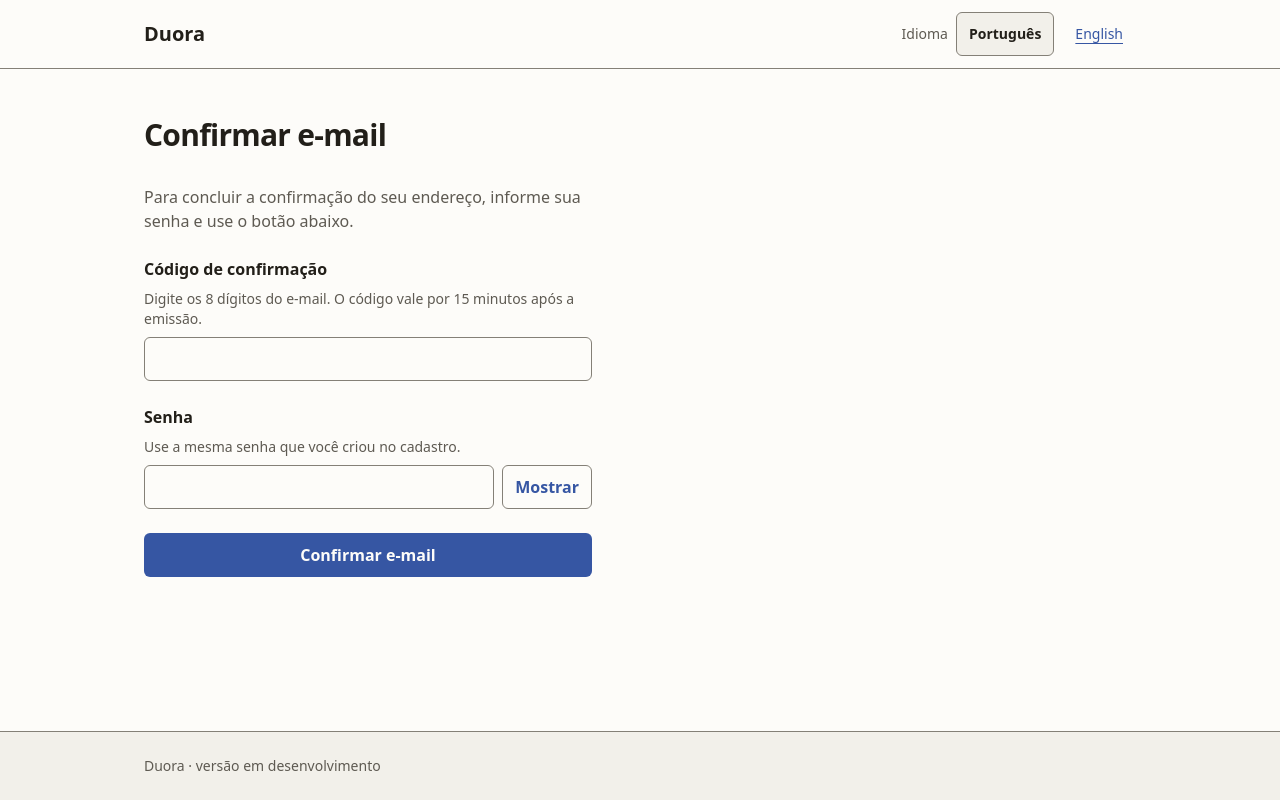
Test: confirmação por código › pede o código digitável e envia no corpo, sem confirmação automática
Type "0123 4567" into the field labelled "Código de confirmação" at (368, 359), box [144,337,592,381]
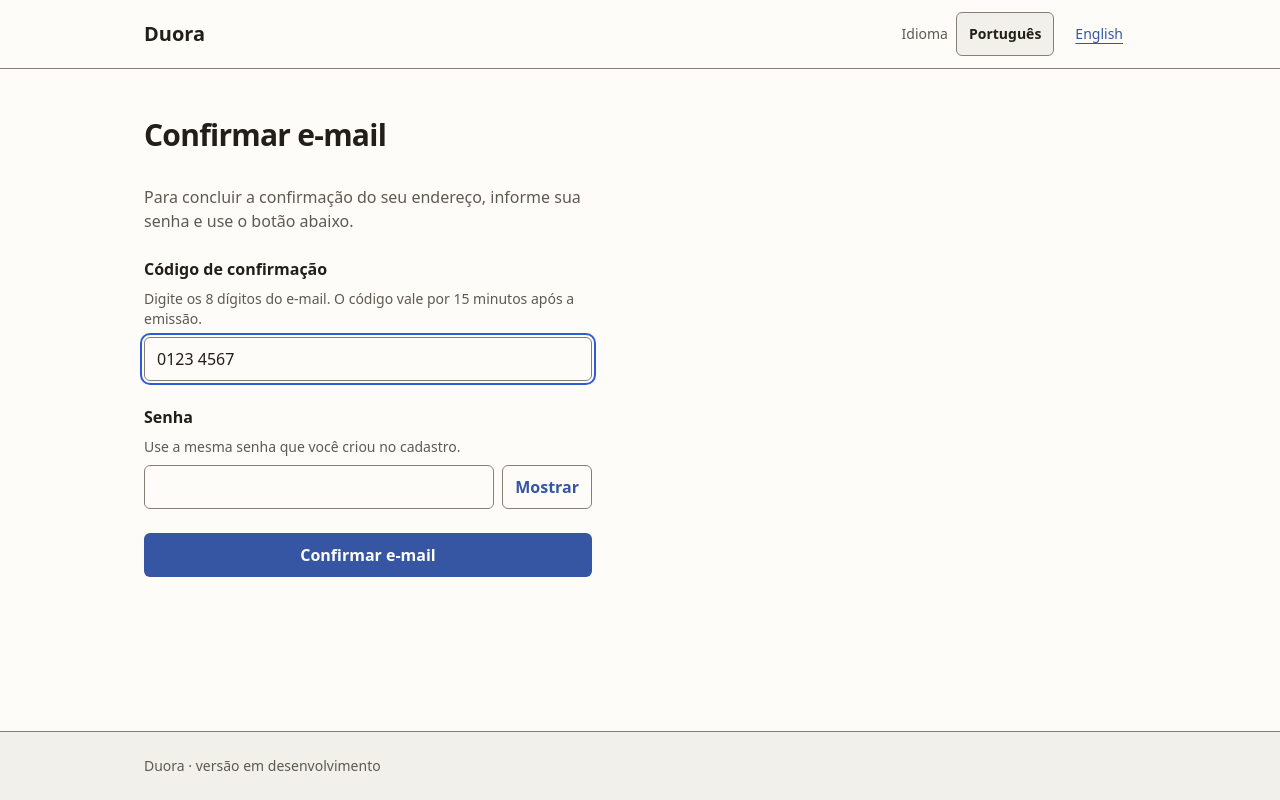
Click the password field labelled "Senha" at (319, 487), box [144,465,494,509]
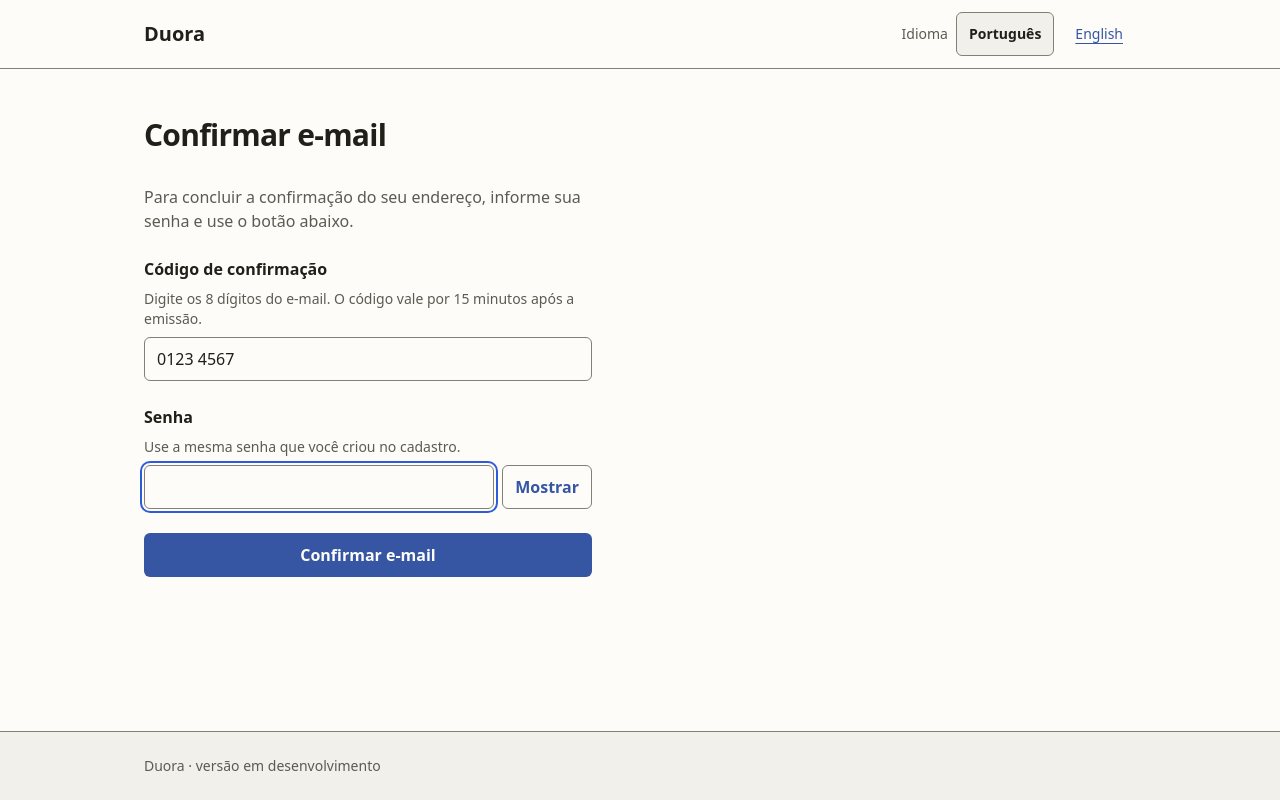
Type keys "frase longa do cadastro"
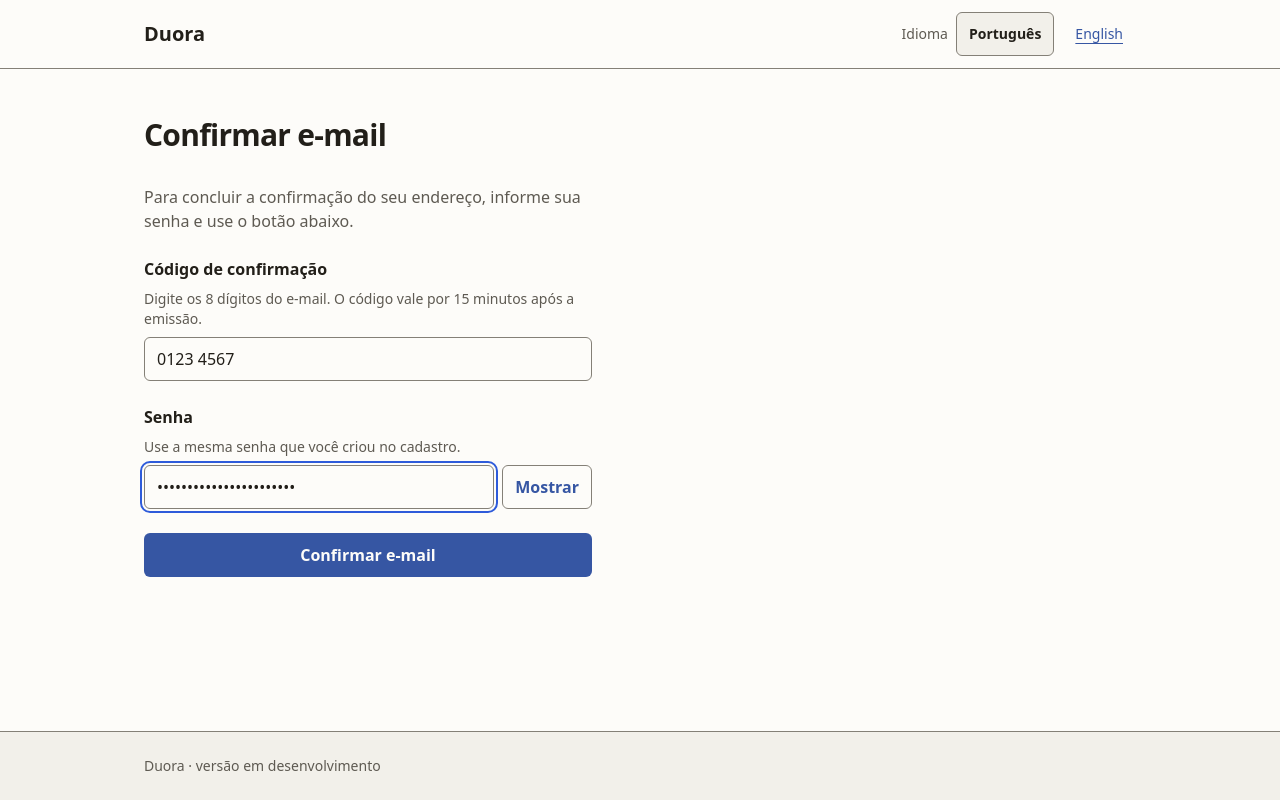
Click the button "Confirmar e-mail" at (368, 555), box [144,533,592,577]
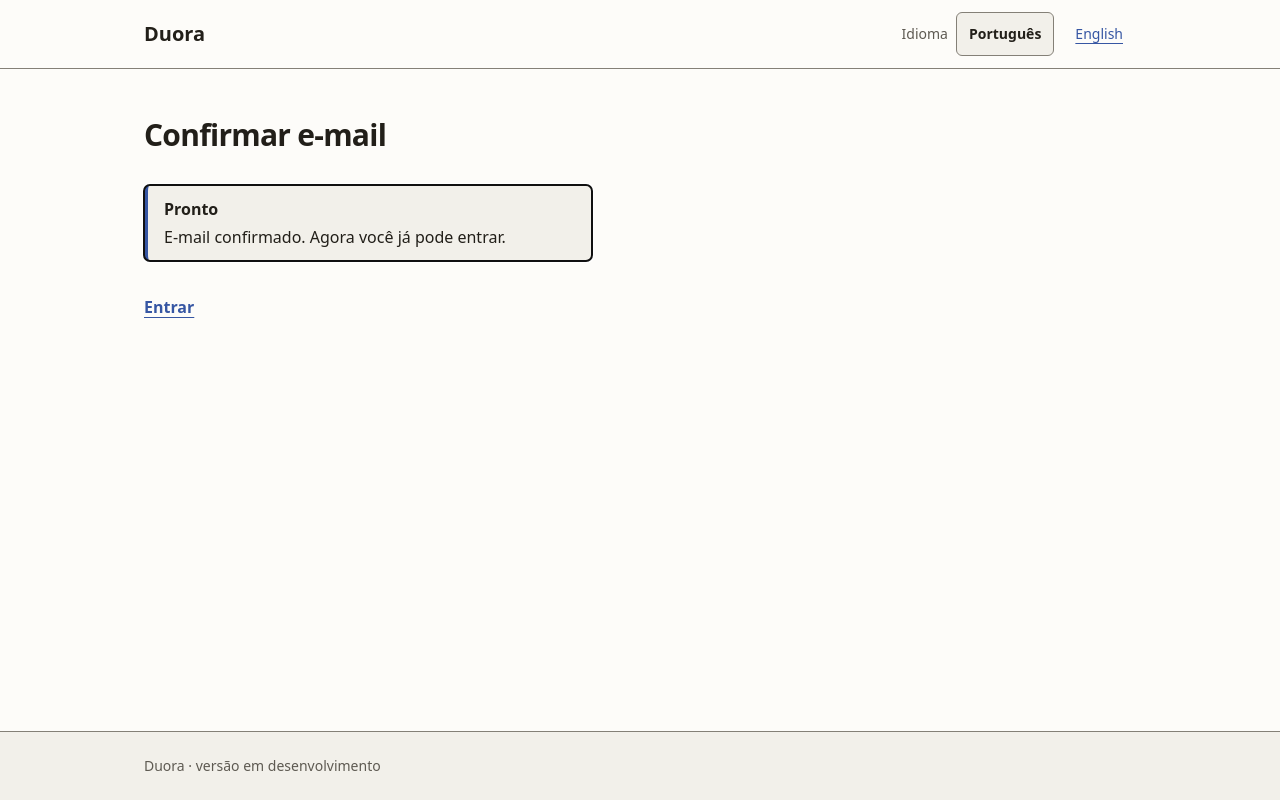
expect the message shows "E-mail confirmado.": met, box [164,226,506,248]
